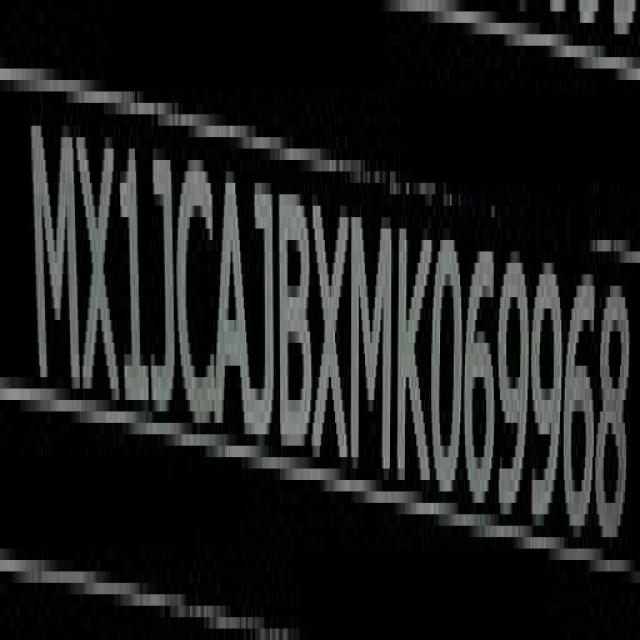0: (432, 228, 462, 501)
1: (120, 120, 148, 422)
6: (465, 241, 497, 514), (566, 262, 596, 539)
8: (600, 269, 634, 543)
9: (500, 247, 530, 524), (531, 258, 561, 533)
A: (218, 155, 248, 446)
B: (282, 180, 312, 460)
C: (175, 145, 218, 439)
J: (147, 134, 177, 429), (247, 182, 278, 449)
K: (398, 220, 430, 496)
M: (30, 103, 74, 411), (350, 202, 391, 486)
X: (80, 116, 118, 416), (313, 190, 348, 476)
